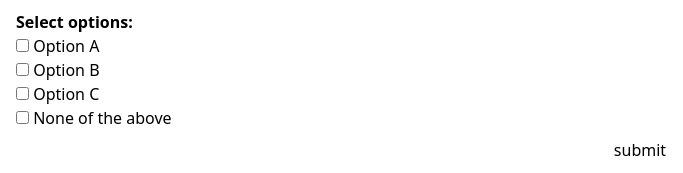
it: selection field test › check if None of above is disabled
Click the checkbox labelled "Option A".
click(22, 46)  # box [16,39,29,52]
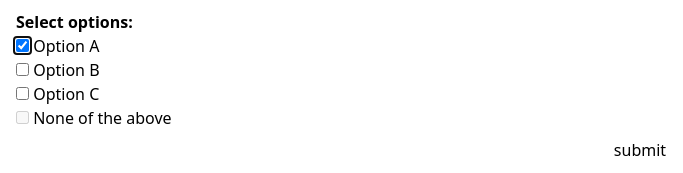
Check: the checkbox labelled "None of the above" is disabled, box [16,111,29,124]
